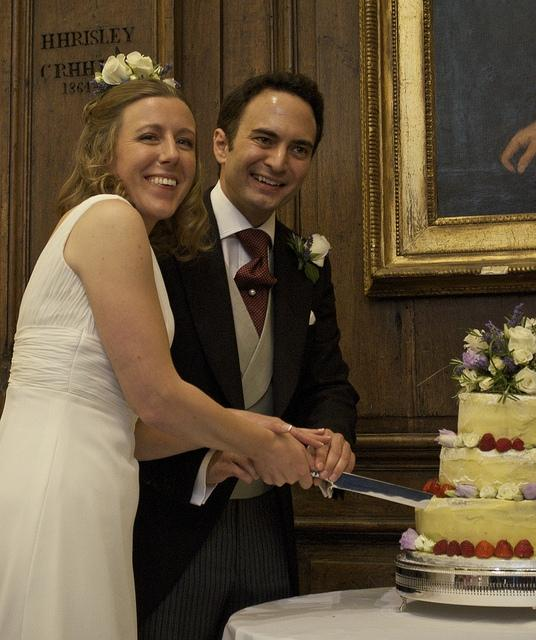strawberry: (514, 539, 534, 559), (474, 540, 494, 558), (495, 540, 514, 558), (479, 434, 496, 452), (446, 540, 462, 556), (438, 484, 456, 498), (422, 478, 438, 493), (433, 540, 448, 556), (495, 438, 512, 452), (430, 478, 442, 494), (512, 438, 525, 451)
